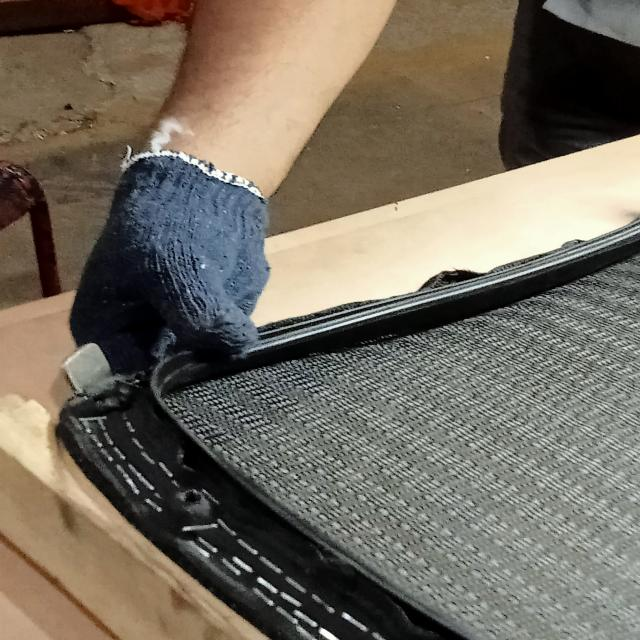Gloves-Detection: (68, 148, 266, 376)
